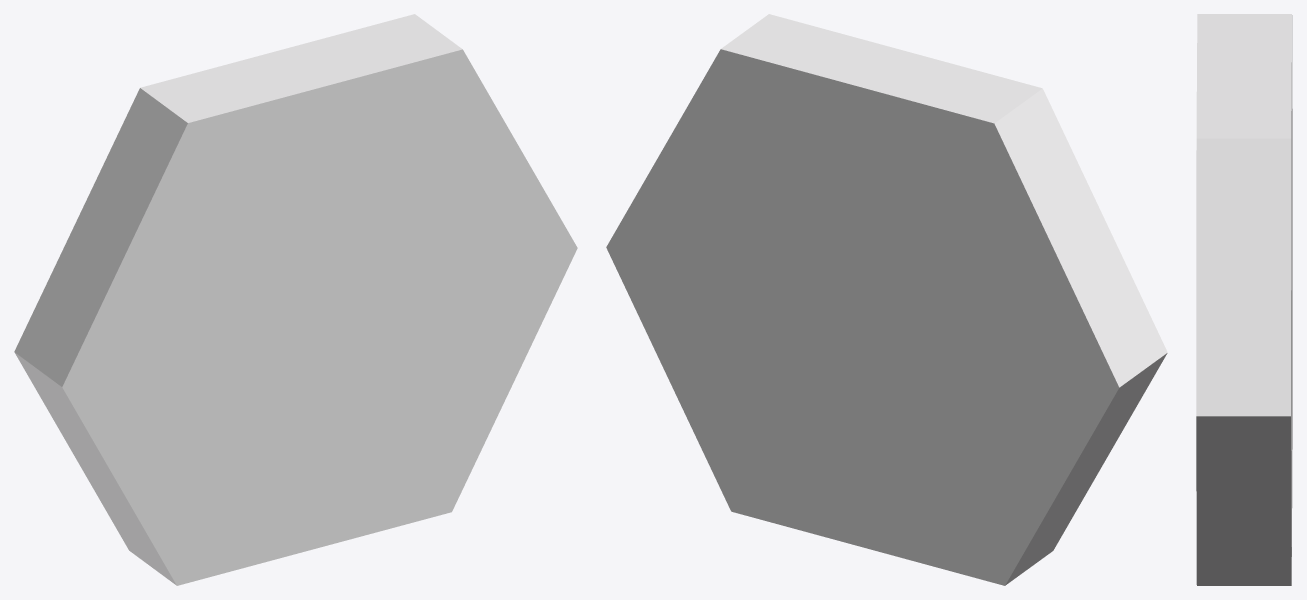
The model's file is banana04.obj.
3 views of the same model, side by side, from view 1: azimuth 30°, elevation 25°; view 2: azimuth 150°, elevation 25°; view 3: azimuth 270°, elevation 25° (orthographic).
Parts seen in each view (by area): view 1: Cylinder; view 2: Cylinder; view 3: Cylinder.
Part boxes in pixels (x1,y1,x2,y2): Cylinder: (14, 14, 577, 585); Cylinder: (606, 14, 1167, 585); Cylinder: (1196, 14, 1292, 585).
Bounding box in the file's own units: 0.0377 × 0.0327 × 0.00623.
Materials: 1 (1 with a texture image).
